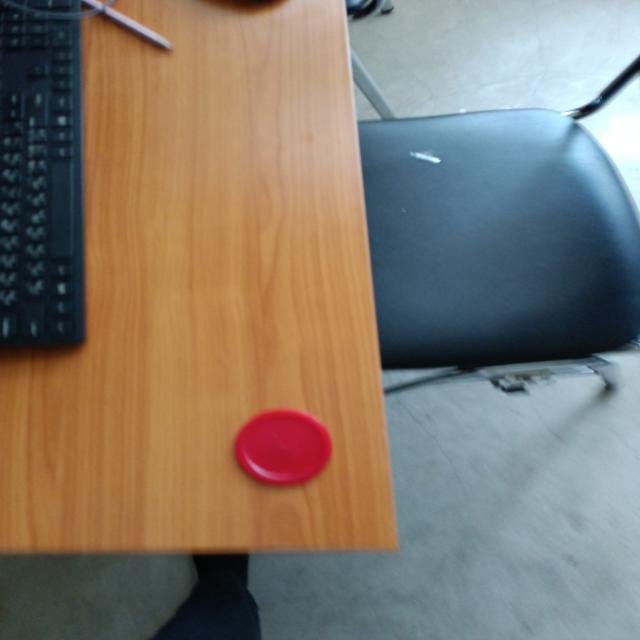chip: (231, 407, 334, 487)
